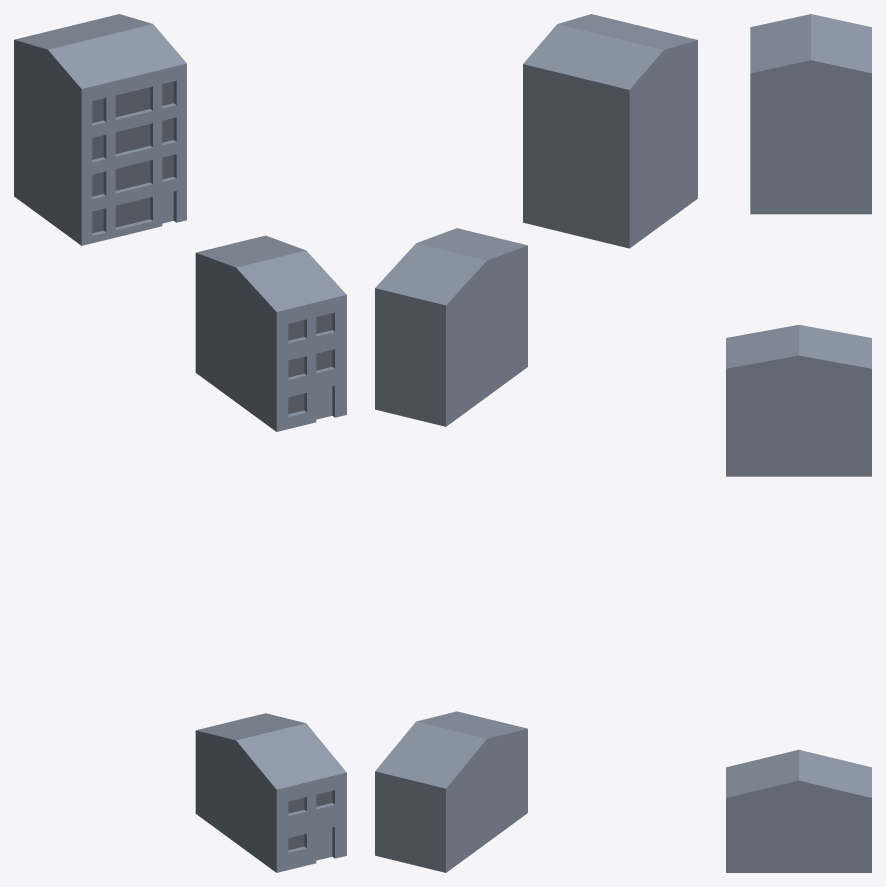
File: Penceregrup3.gltf
3 renders of one model, left to right at view 1: azimuth 30°, elevation 25°; view 2: azimuth 150°, elevation 25°; view 3: azimuth 270°, elevation 25°, orthographic. The views are drawn at different scales.
Parts seen in each view (by area): view 1: Building_072.003, Building_080.003, Building_082.003, Building_072.005, Building_080.005, Building_082.005; view 2: Building_072.003, Building_080.003, Building_082.003; view 3: Building_072.003, Building_080.003, Building_082.003.
Boxes of the visible parts, left/top/right/bottom form: Building_072.003: left=14, top=14, right=186, bottom=245; Building_080.003: left=195, top=235, right=346, bottom=431; Building_082.003: left=195, top=713, right=346, bottom=872; Building_072.005: left=92, top=81, right=173, bottom=233; Building_080.005: left=288, top=313, right=332, bottom=414; Building_082.005: left=288, top=791, right=332, bottom=850; Building_072.003: left=523, top=14, right=697, bottom=248; Building_080.003: left=375, top=228, right=527, bottom=426; Building_082.003: left=375, top=711, right=527, bottom=872; Building_072.003: left=750, top=14, right=871, bottom=214; Building_080.003: left=726, top=325, right=871, bottom=476; Building_082.003: left=726, top=750, right=871, bottom=872.
Bounding box in the file's own units: 0.1168 × 0.3696 × 0.0652.
